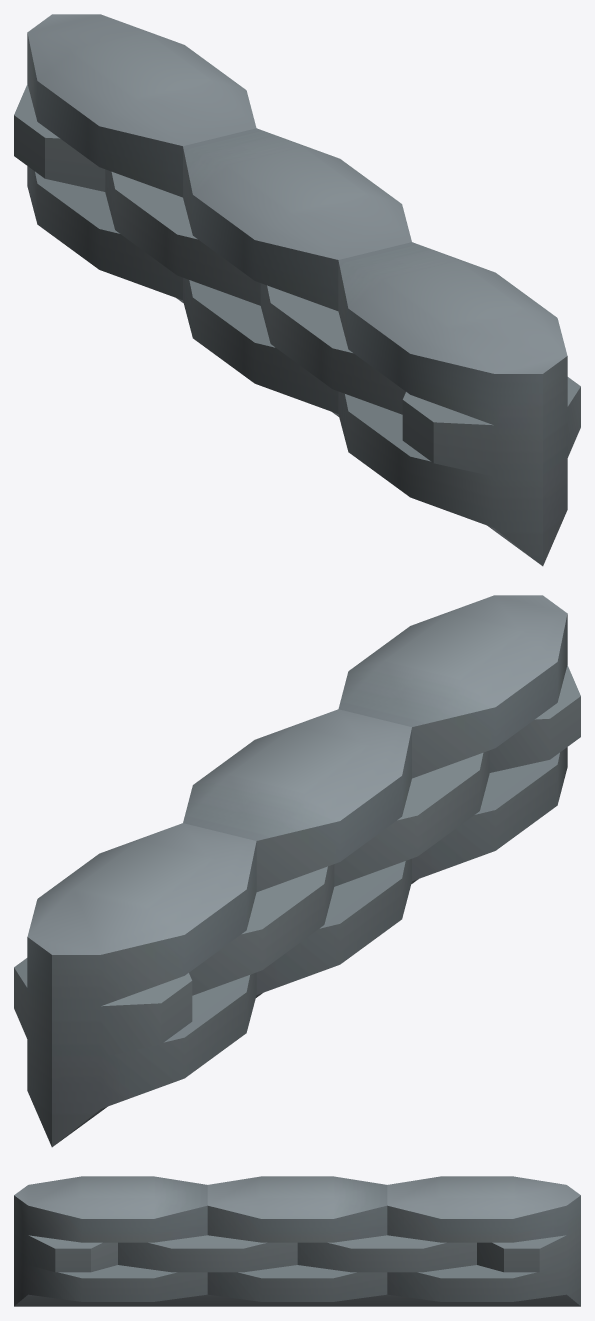
Rendered from kaykit-medieval-hexagon-pack-fence-stone-straight.glb.
The picture shows the model from 3 angles, top to bottom: view 1: azimuth 30°, elevation 25°; view 2: azimuth 150°, elevation 25°; view 3: azimuth 270°, elevation 25°; orthographic projection. The views are drawn at different scales.
Parts seen in each view (by area): view 1: fence_stone_straight; view 2: fence_stone_straight; view 3: fence_stone_straight.
Boxes of the visible parts, x1=… form: fence_stone_straight: x1=14, y1=14, x2=580, y2=566; fence_stone_straight: x1=14, y1=595, x2=580, y2=1147; fence_stone_straight: x1=14, y1=1176, x2=580, y2=1306.
Bounding box in the file's own units: 0.2 × 0.2689 × 1.15.
Materials: 1 (1 with a texture image).
